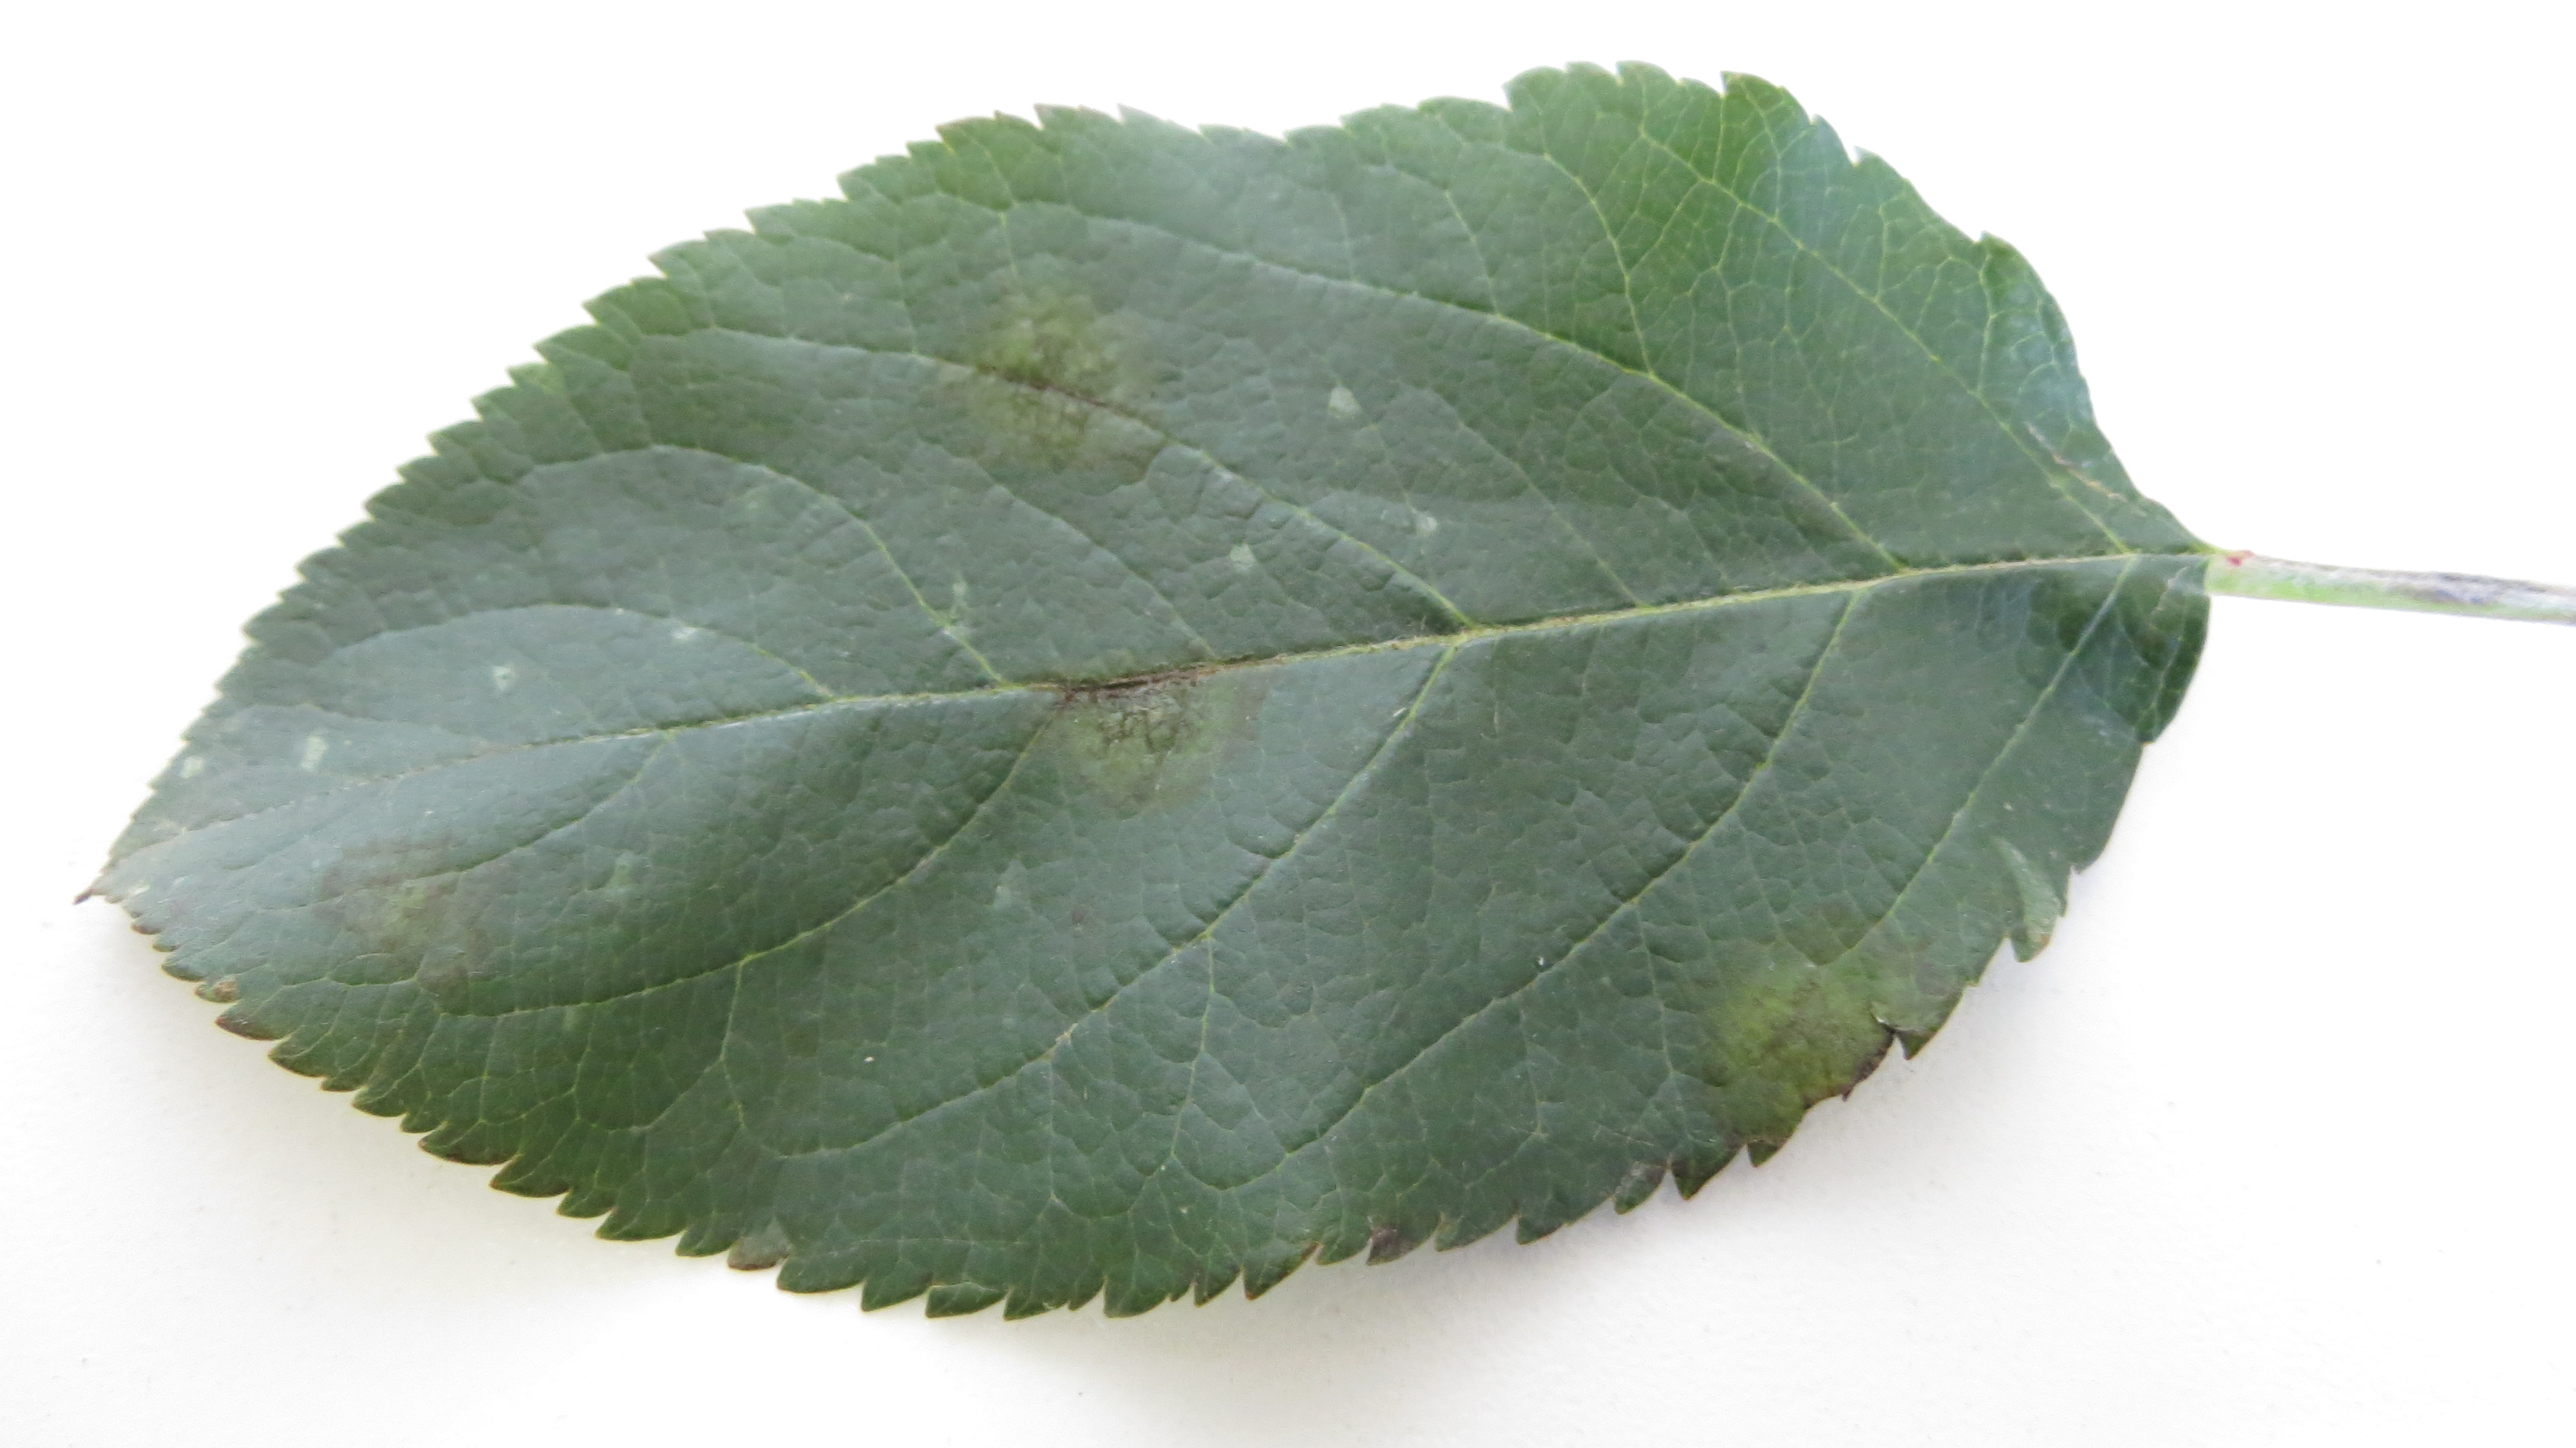sarna: (1691, 931, 1909, 1129), (1035, 637, 1272, 818), (962, 287, 1159, 462), (308, 828, 522, 986)
